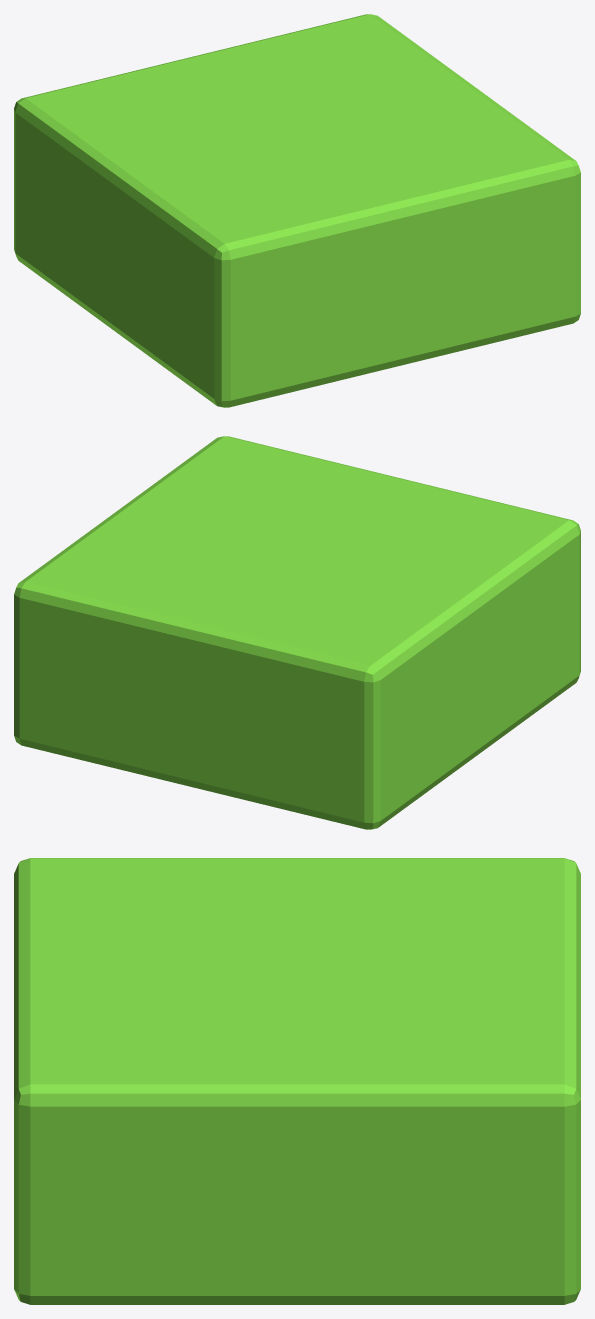
File: board.glb
3 views of the same model, one above another, from view 1: azimuth 30°, elevation 25°; view 2: azimuth 150°, elevation 25°; view 3: azimuth 270°, elevation 25° (orthographic). The views are drawn at different scales.
Parts seen in each view (by area): view 1: Cube.029; view 2: Cube.029; view 3: Cube.029.
Part boxes in pixels (x1,y1,x2,y2): Cube.029: (14,14,580,407); Cube.029: (14,436,580,829); Cube.029: (14,858,580,1304).
Size of the model in its own units: 0.7 by 0.3 by 0.7.
